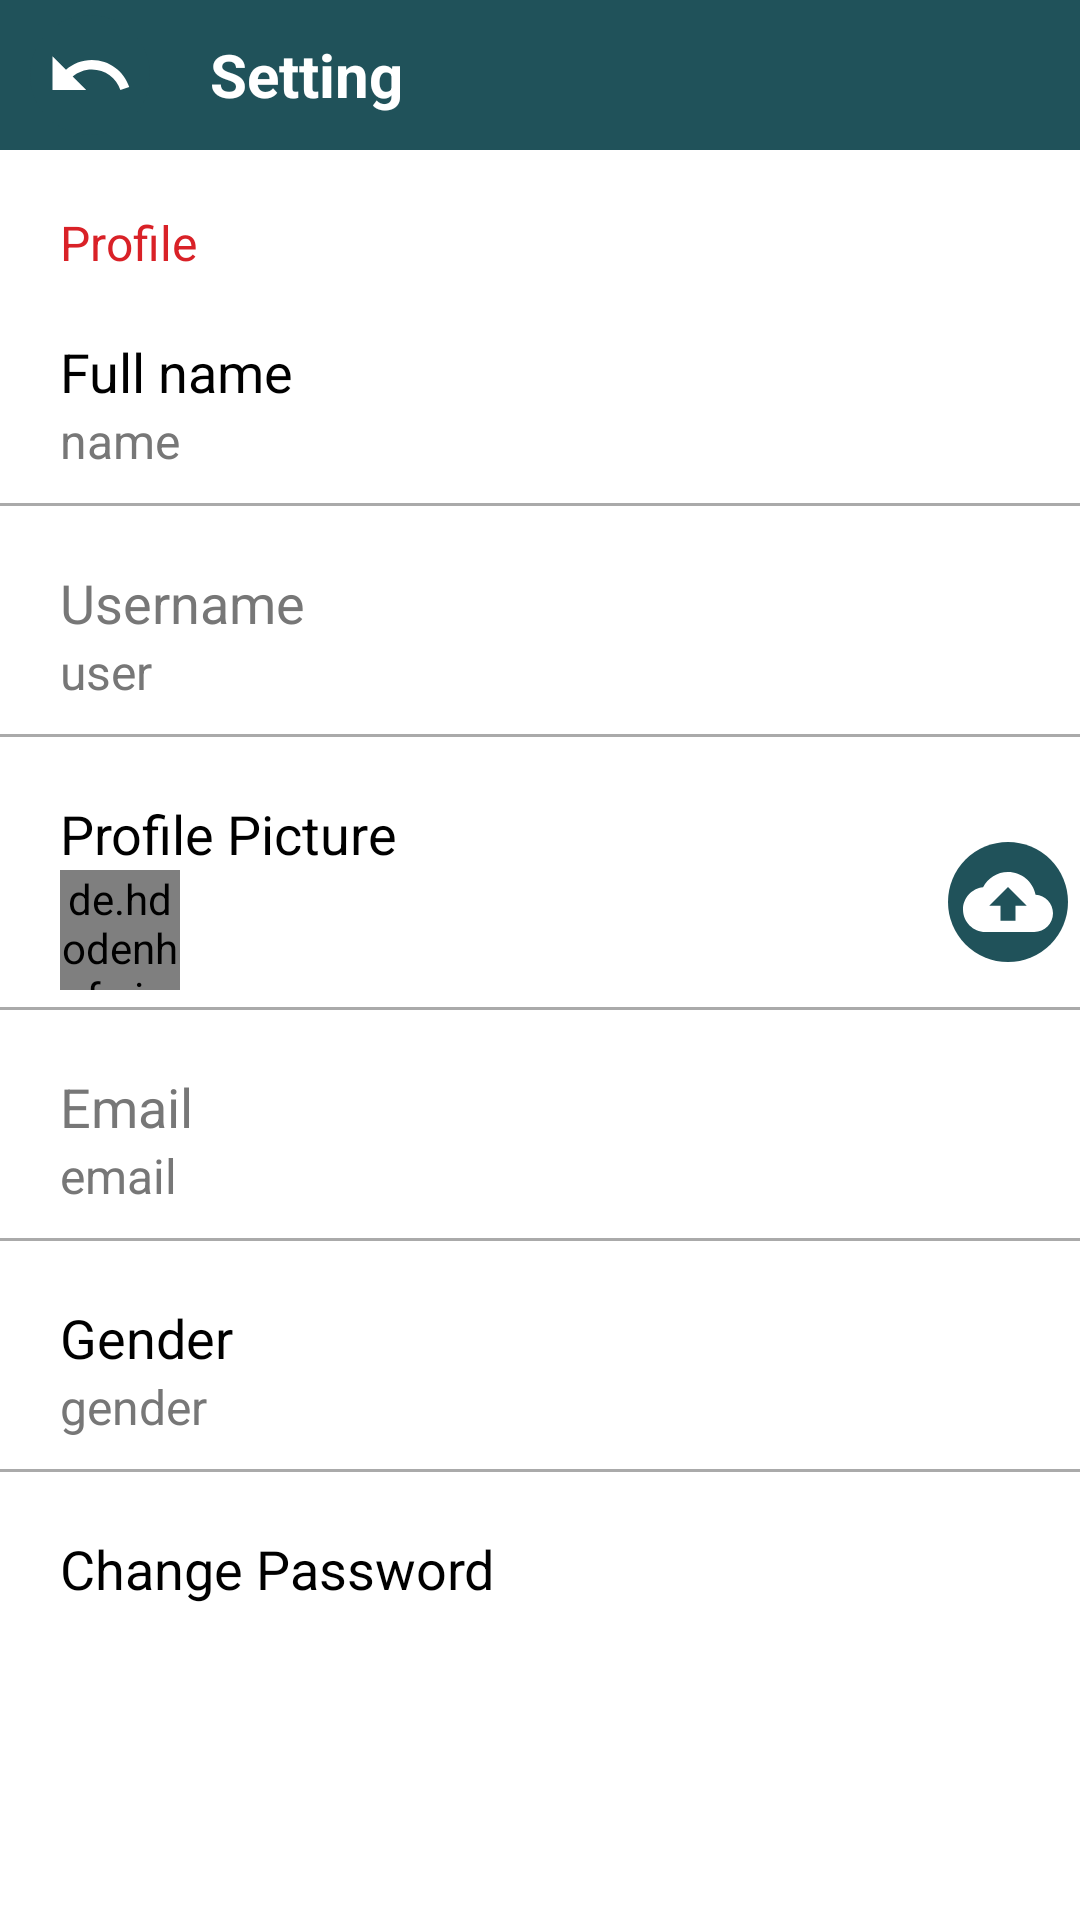

Where to tap for icons on this 1080px x 1920px app screen, as point (x, y):
back: point (90, 73)
backup: point (1008, 902)
